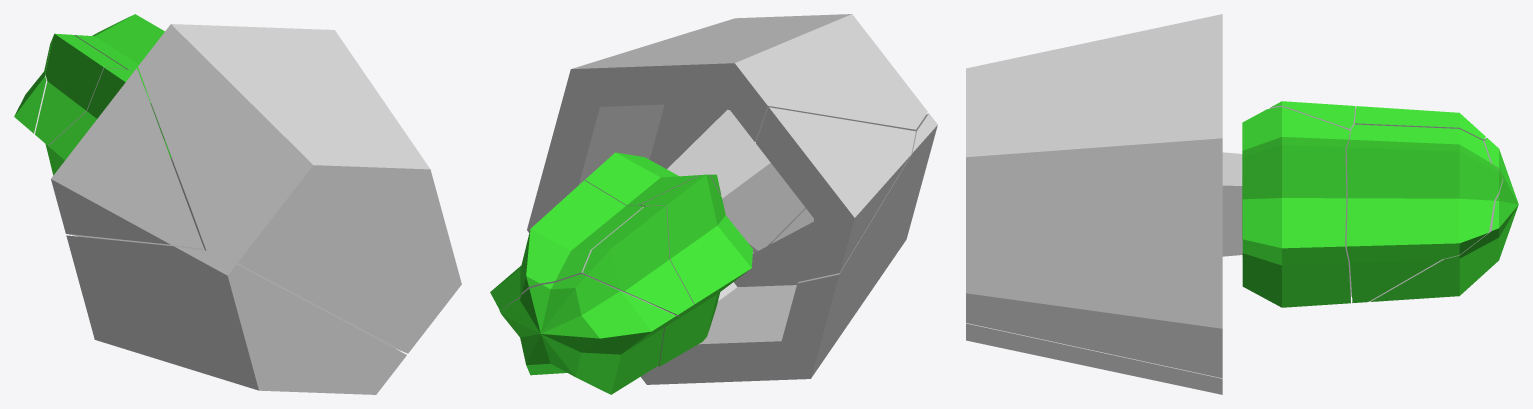
File: PlantSmall2_Broken.fbx
3 renders of one model, left to right at view 1: azimuth 30°, elevation 25°; view 2: azimuth 150°, elevation 25°; view 3: azimuth 270°, elevation 25°, orthographic.
Visible parts, largest first — view 1: plantSmall2_cell.005, plantSmall2_cell.004, plantSmall2_cell.001, plantSmall2_cell, plantSmall2_cell.002, plantSmall2_cell.006, plantSmall2_cell.003; view 2: plantSmall2_cell.005, plantSmall2_cell.004, plantSmall2_cell.001, plantSmall2_cell.003, plantSmall2_cell.006, plantSmall2_cell.002, plantSmall2_cell; view 3: plantSmall2_cell.005, plantSmall2_cell.002, plantSmall2_cell.003, plantSmall2_cell.004, plantSmall2_cell, plantSmall2_cell.006.
Boxes of the visible parts, bbox=[...] form: plantSmall2_cell.005: bbox=[138, 24, 461, 353]; plantSmall2_cell.004: bbox=[66, 235, 406, 394]; plantSmall2_cell.001: bbox=[51, 68, 204, 250]; plantSmall2_cell: bbox=[35, 33, 126, 145]; plantSmall2_cell.002: bbox=[74, 14, 164, 74]; plantSmall2_cell.006: bbox=[48, 67, 133, 159]; plantSmall2_cell.003: bbox=[14, 41, 64, 175]; plantSmall2_cell.005: bbox=[527, 14, 927, 252]; plantSmall2_cell.004: bbox=[641, 113, 937, 384]; plantSmall2_cell.001: bbox=[756, 107, 915, 281]; plantSmall2_cell.003: bbox=[499, 274, 677, 394]; plantSmall2_cell.006: bbox=[640, 174, 753, 366]; plantSmall2_cell.002: bbox=[490, 180, 647, 309]; plantSmall2_cell: bbox=[583, 205, 693, 315]; plantSmall2_cell.005: bbox=[966, 14, 1350, 378]; plantSmall2_cell.002: bbox=[1346, 124, 1502, 303]; plantSmall2_cell.003: bbox=[1370, 138, 1518, 301]; plantSmall2_cell.004: bbox=[966, 323, 1222, 394]; plantSmall2_cell: bbox=[1354, 106, 1485, 140]; plantSmall2_cell.006: bbox=[1242, 101, 1355, 296].
Size of the model in its own units: 47.33 by 47.33 by 70.
